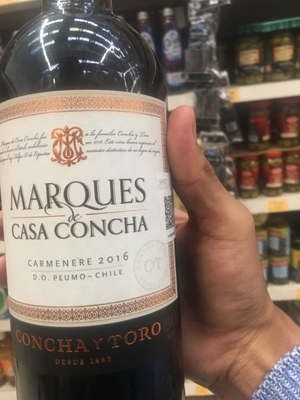marques de casa concha carmenere: (1, 17, 181, 397)
